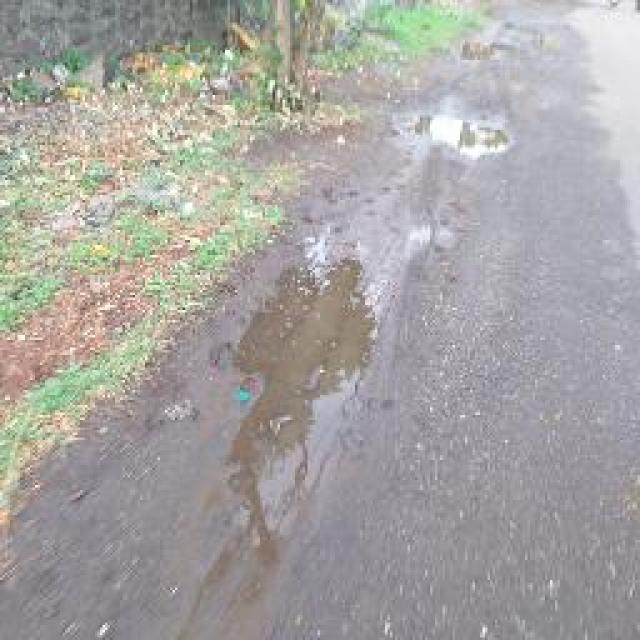stagnation: (168, 232, 416, 611)
